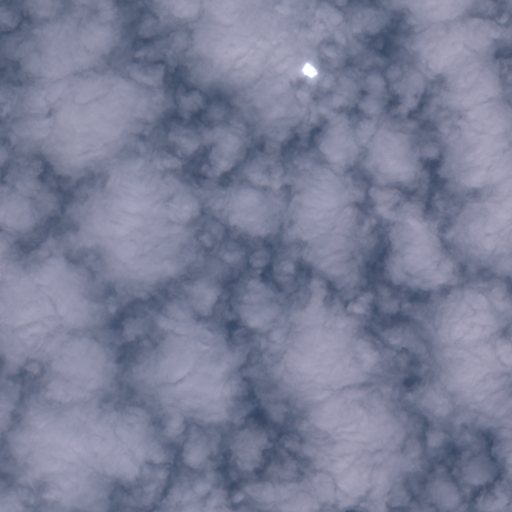Iceberg: (302, 63, 316, 76)
